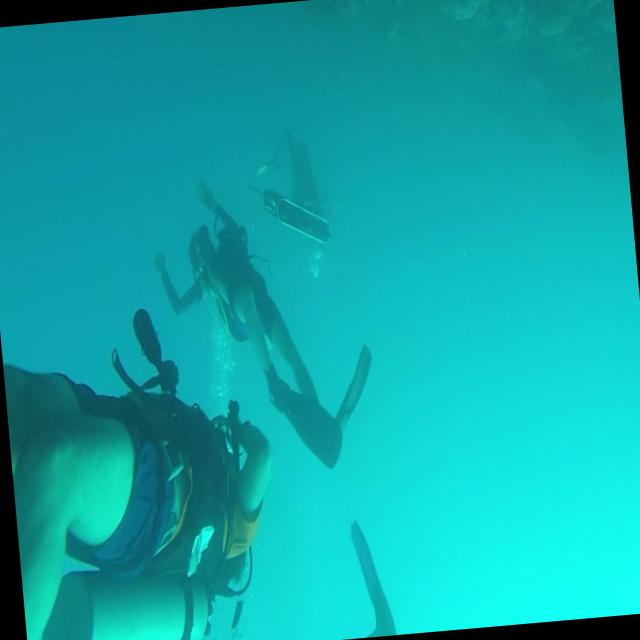human: (0, 298, 289, 640), (147, 168, 382, 484)
